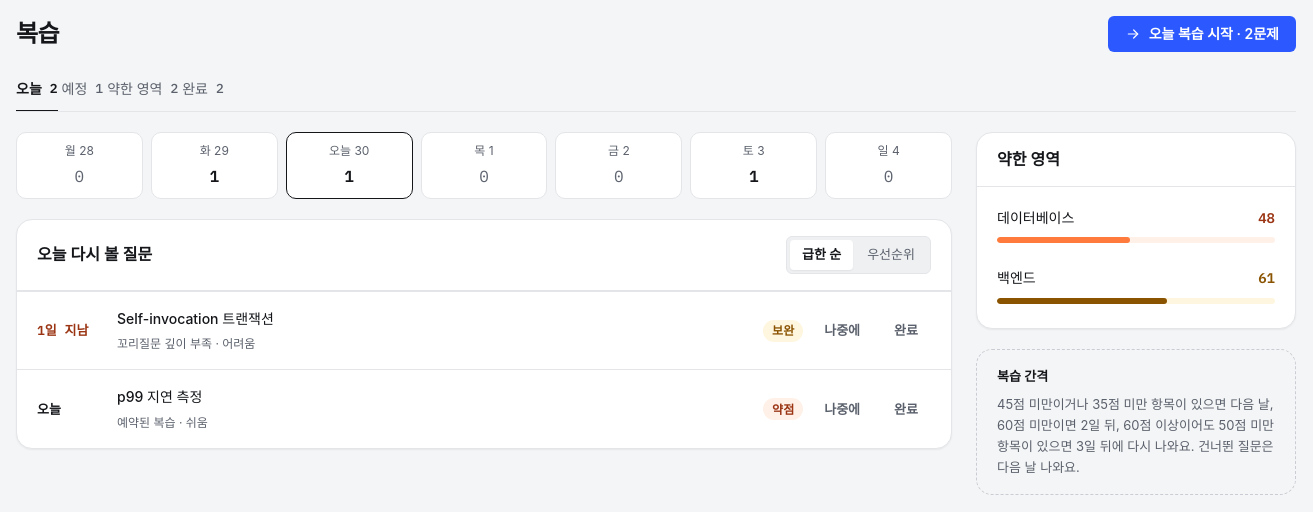
Test case: ReviewQueuePage › shows the week load and filters the list to a picked day
This screenshot has width=1313, height=512.
Expected: the button "오늘 30 1" is shown, [286, 132, 413, 199]
Click the button "토 3 1": point(754, 165) [690, 132, 817, 199]
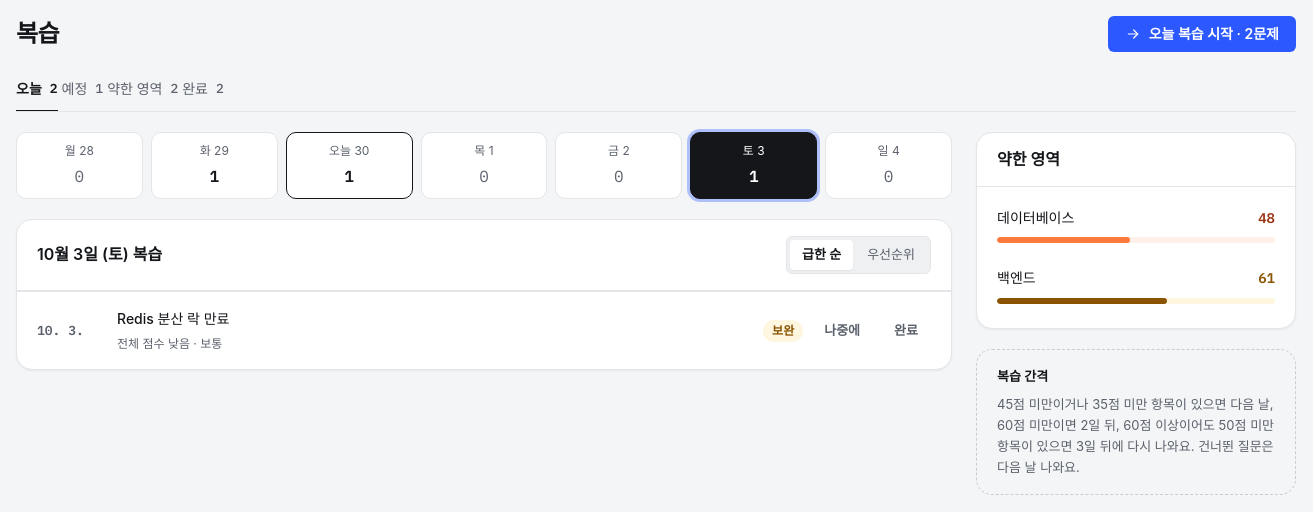
Now the links read "Redis 분산 락 만료", in this order, box [117, 310, 229, 327]
Click the button "토 3 1": point(754, 165) [690, 132, 817, 199]
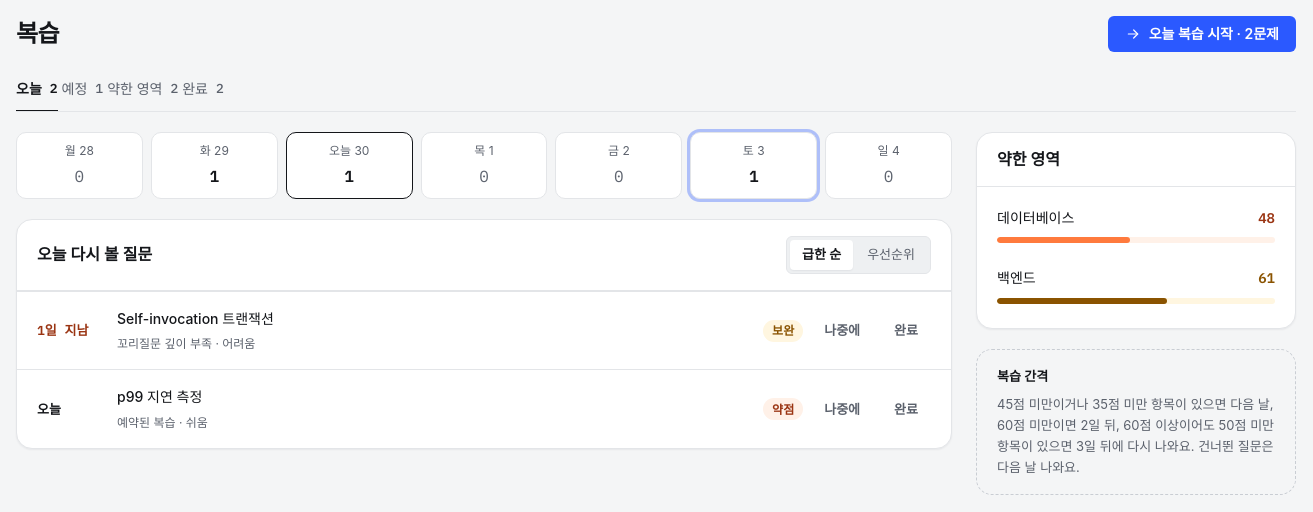
Now the element "오늘 다시 볼 질문" is shown, box [16, 219, 952, 449]
